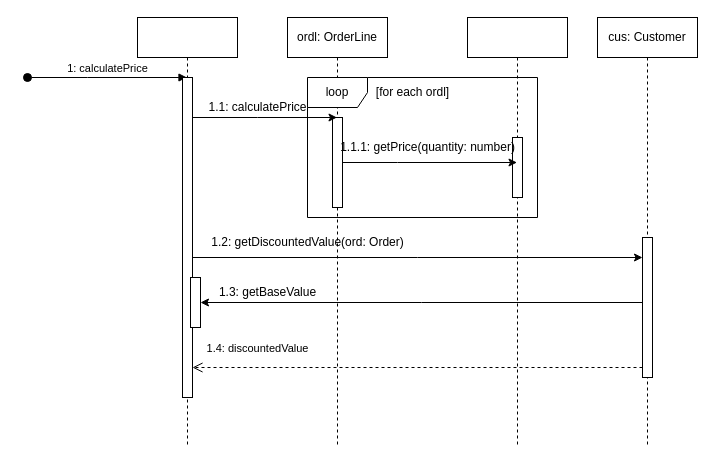
Some shapes in this 715 by 465 pixel diagram are drawn without their labels. The box of each missing label's shape, as (x1, y1, x2, y2) in pixels:
ord: Order: (136, 16, 238, 448)
prd: Product: (466, 16, 568, 448)
